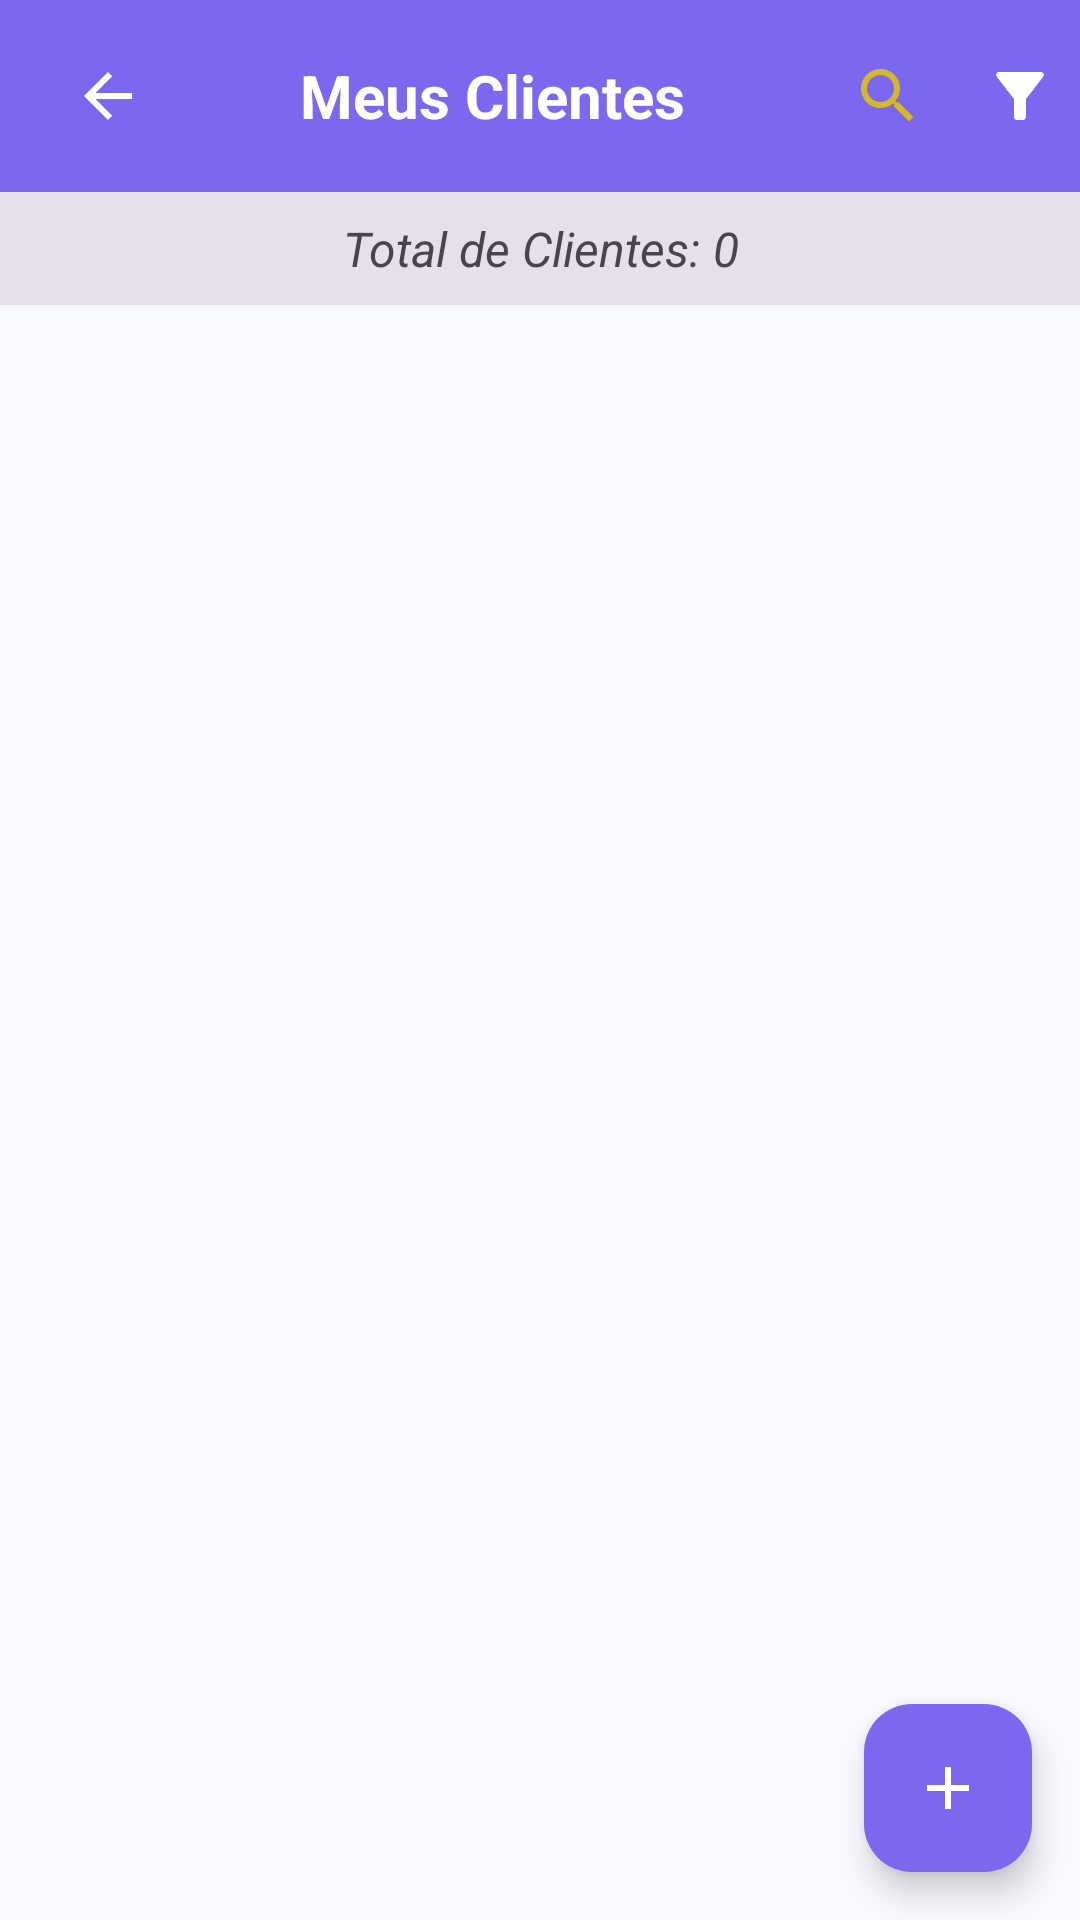

Screen size 1080*1920. Icon name, then its box in pixels as [x1,y1,x2,y2]:
Adicionar Cliente: [864,1704,1032,1872]
Filtrar Clientes: [996,72,1044,120]
Voltar: [84,72,132,120]
